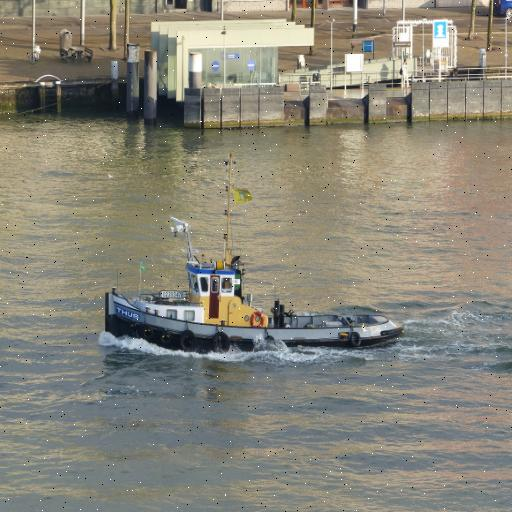tugboat: (102, 213, 407, 358)
